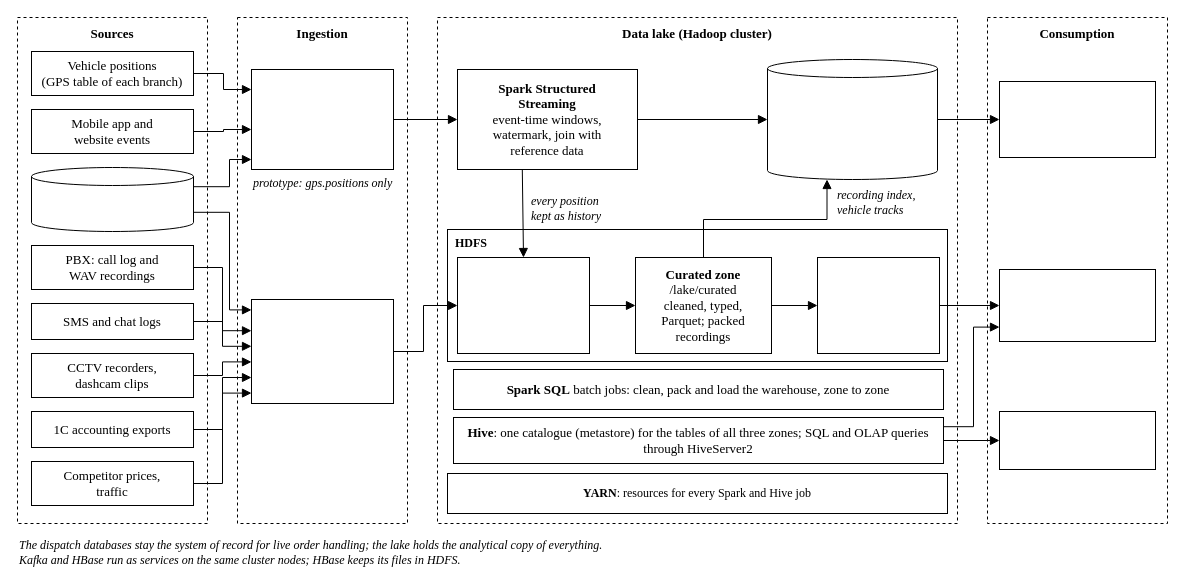
Some shapes in this 1185 by 587 pixel diagram are drawn without their labels. Here are the shapes that lost their labels. From the top down, the centre of each, then its label:
At [322,119]: "Kafka topics: gps.positions order.events app.events".
At [852,119]: "HBase latest vehicle position, vehicle tracks, recording look-up by order".
At [1077,119]: "Supply board for both cities (free cars per zone); recording and trip look-up".
At [112,199]: "Dispatch databases (branch A, branch B)".
At [523,305]: "Raw zone /lake/raw files as received, by source, branch and day".
At [878,305]: "Analytics zone /lake/analytics facts and dimensions".
At [1077,305]: "Management and finance reports (JDBC / BI tool)".
At [322,351]: "Batch landing jobs nightly table exports, file and media transfer".
At [1077,440]: "Ad-hoc analysis (Beeline, spark-shell)".
